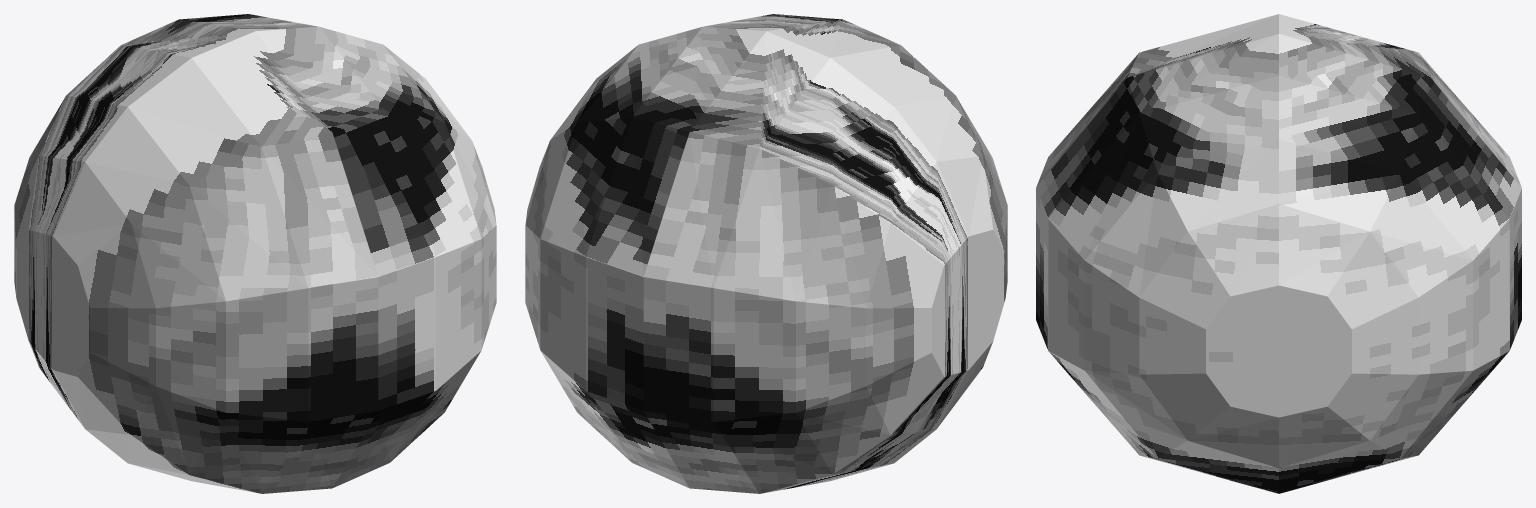
The model's file is ball.obj.
3 views of the same model, side by side, from view 1: azimuth 30°, elevation 25°; view 2: azimuth 150°, elevation 25°; view 3: azimuth 270°, elevation 25° (orthographic).
Size of the model in its own units: 0.304 by 0.32 by 0.32.
Materials: 1 (1 with a texture image).
